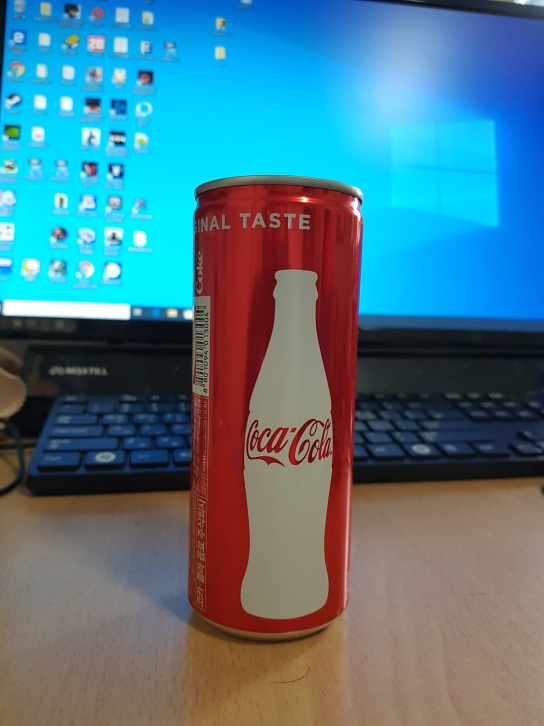Can: (188, 170, 355, 645)
